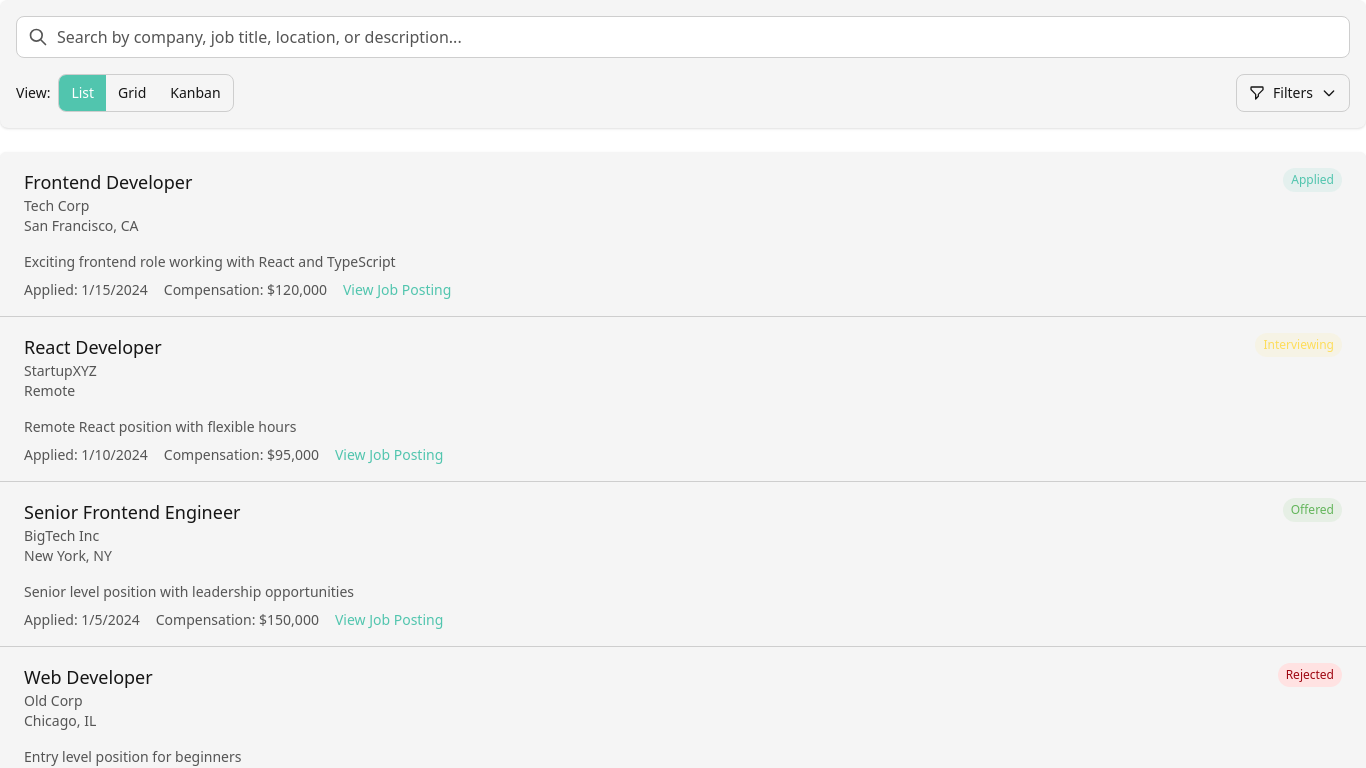
Test: ApplicationsView Component › View Toggle › should toggle to grid view when grid button is clicked
Click the button with test id "grid-toggle-button". click: (132, 93)
box: [106, 75, 158, 111]
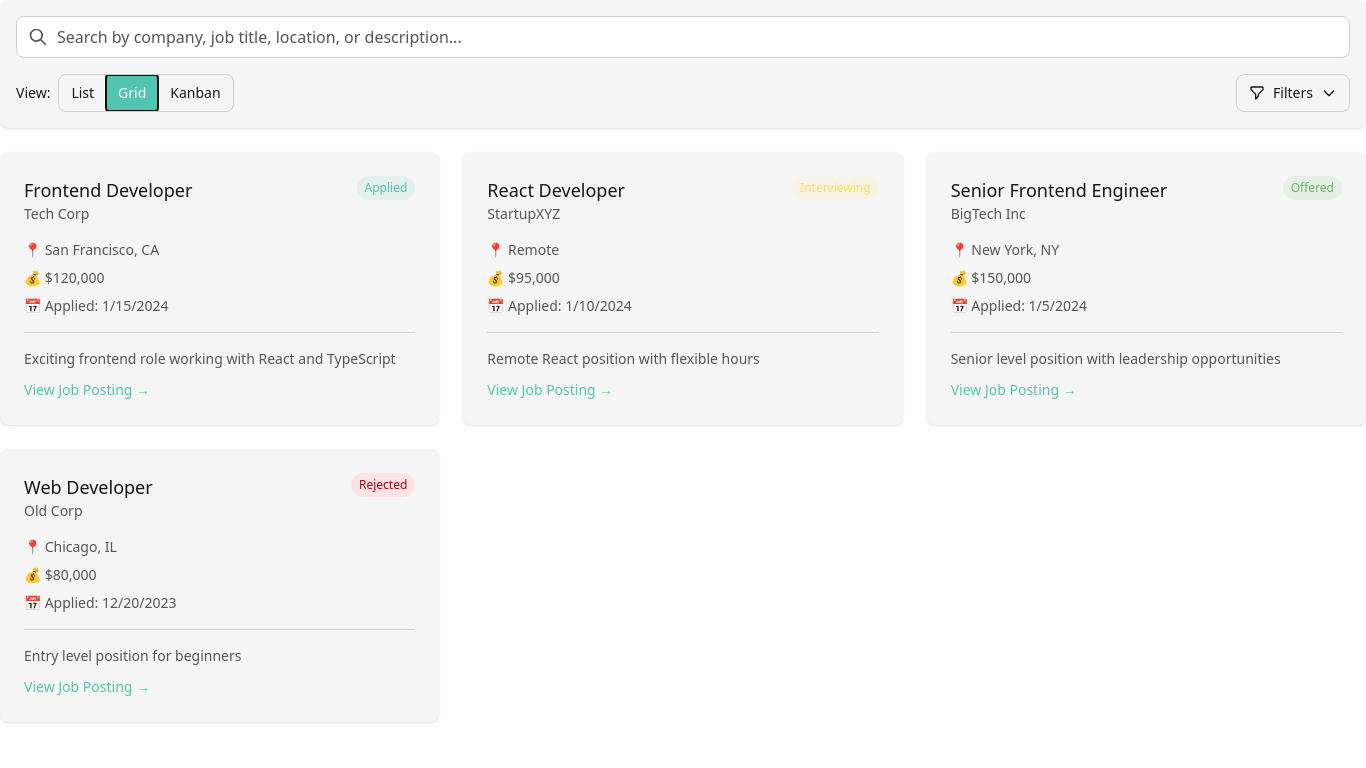
Result: the element with test id "grid-view" is shown
